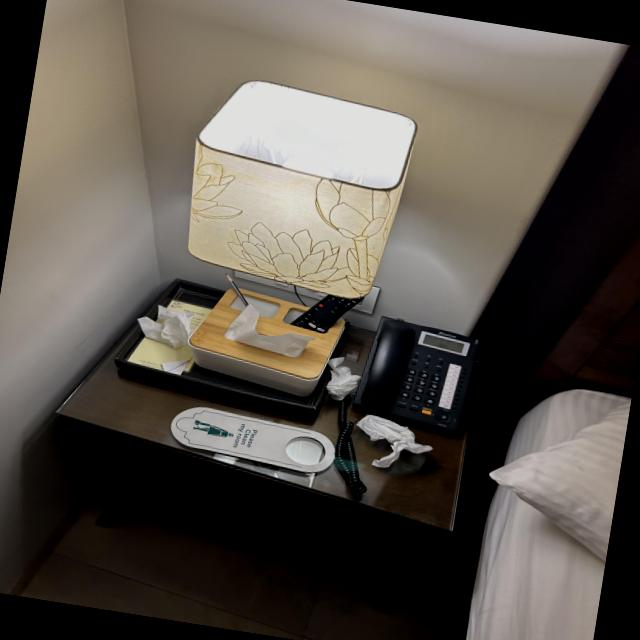mess: (29, 228, 515, 586)
